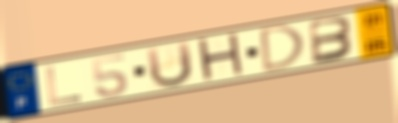5: (89, 52, 130, 99)
B: (308, 15, 358, 67)
D: (259, 23, 308, 75)
H: (195, 31, 248, 85)
L: (43, 64, 84, 108)
U: (143, 39, 195, 90)
